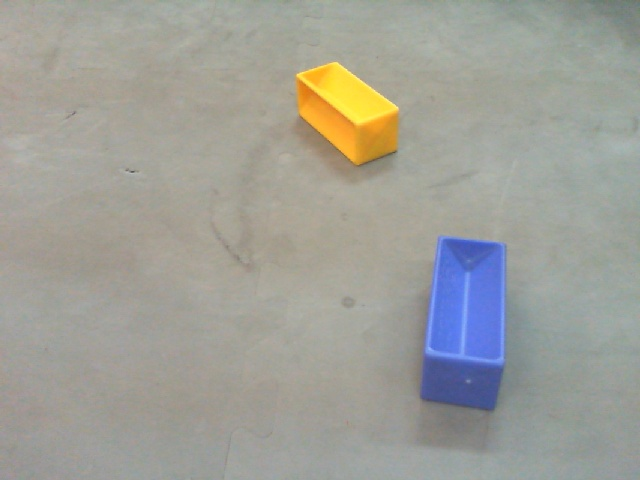BlueSample: (418, 234, 510, 416)
YellowSample: (291, 59, 400, 169)
